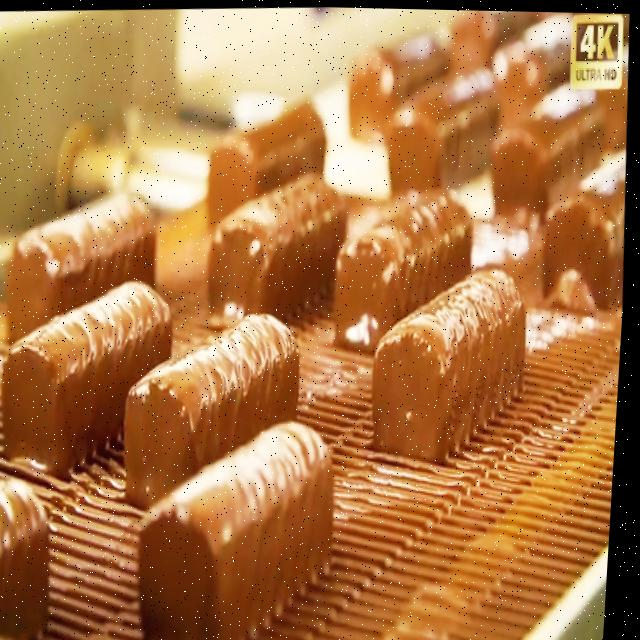Choco: (133, 409, 349, 640), (120, 303, 313, 508), (0, 270, 183, 474), (365, 257, 539, 464), (329, 177, 483, 354), (2, 183, 166, 344), (203, 162, 355, 321), (202, 88, 333, 224), (531, 140, 631, 318), (488, 88, 619, 219), (377, 63, 503, 193), (345, 17, 465, 141), (0, 458, 69, 638), (487, 23, 571, 107)
